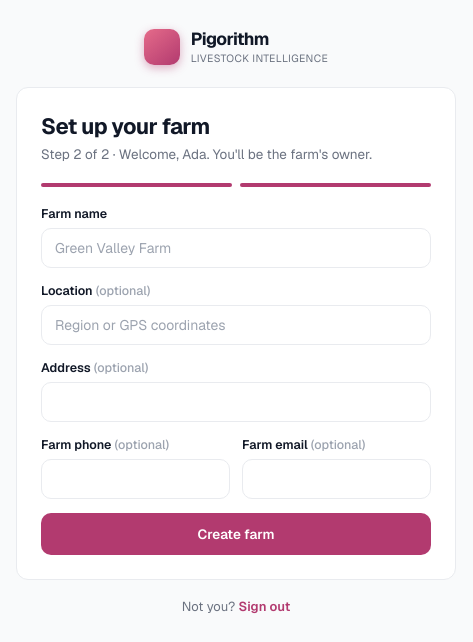
Scenario: auth forms › farm onboarding › requires a farm name
Click the button "Create farm" at (236, 534), box [41,513,431,555]
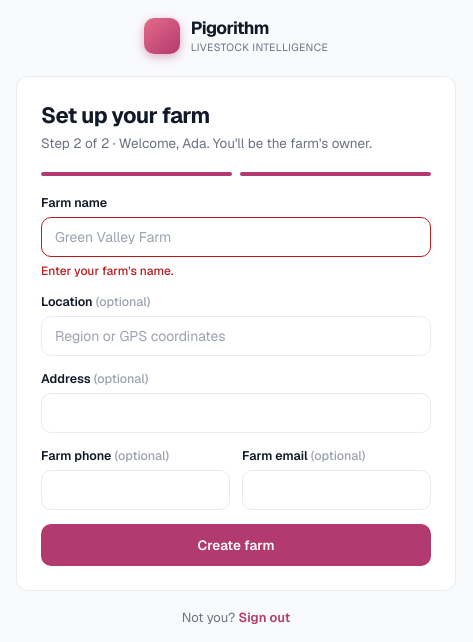
Result: the text "Enter your farm's name." is shown at [41,263,173,279]
